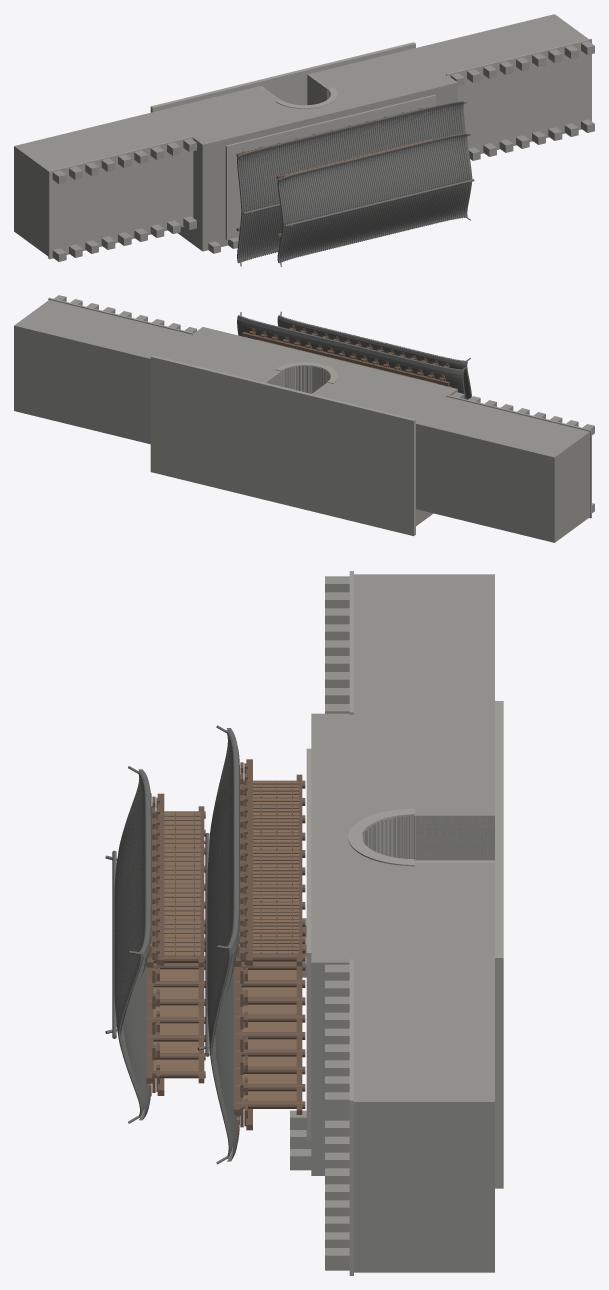
Rendered from SRC_Zhengximen_HighPoly.glb.
3 renders of one model, top to bottom at view 1: azimuth 30°, elevation 25°; view 2: azimuth 150°, elevation 25°; view 3: azimuth 270°, elevation 25°, orthographic. The views are drawn at different scales.
Visible parts, largest first — view 1: GrayBrick, StoneFoundation, ClayRoofTile, DarkTimber; view 2: GrayBrick, StoneFoundation, ClayRoofTile, DarkTimber, AgedWood; view 3: GrayBrick, DarkTimber, ClayRoofTile, AgedWood, StoneFoundation.
Part boxes in pixels (<box>): GrayBrick: <box>14,14,594,261</box>; StoneFoundation: <box>48,38,591,259</box>; ClayRoofTile: <box>237,101,474,266</box>; DarkTimber: <box>236,107,438,237</box>; GrayBrick: <box>14,295,594,542</box>; StoneFoundation: <box>48,297,591,536</box>; ClayRoofTile: <box>237,311,471,399</box>; DarkTimber: <box>242,327,451,387</box>; AgedWood: <box>252,325,449,382</box>; GrayBrick: <box>290,574,494,1272</box>; DarkTimber: <box>146,759,305,1130</box>; ClayRoofTile: <box>105,725,239,1164</box>; AgedWood: <box>148,781,298,1130</box>; StoneFoundation: <box>306,571,503,1275</box>.
Size of the model in its own units: 53.2 by 10.8 by 16.9.
